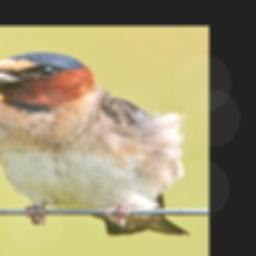Swallow: (0, 51, 192, 238)
